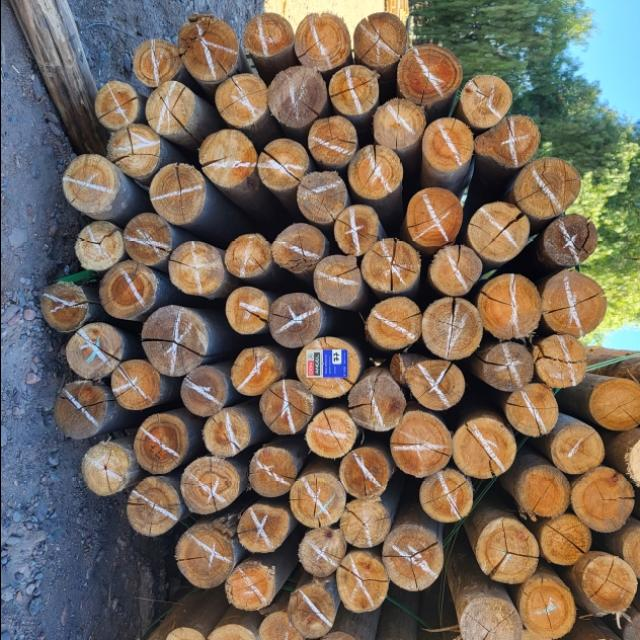package: (41, 15, 604, 622), (444, 360, 640, 640)
